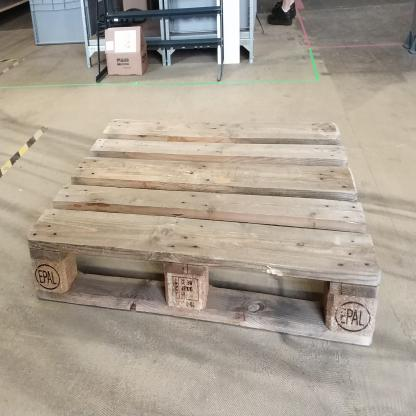BoxFace: (21, 112, 386, 355)
